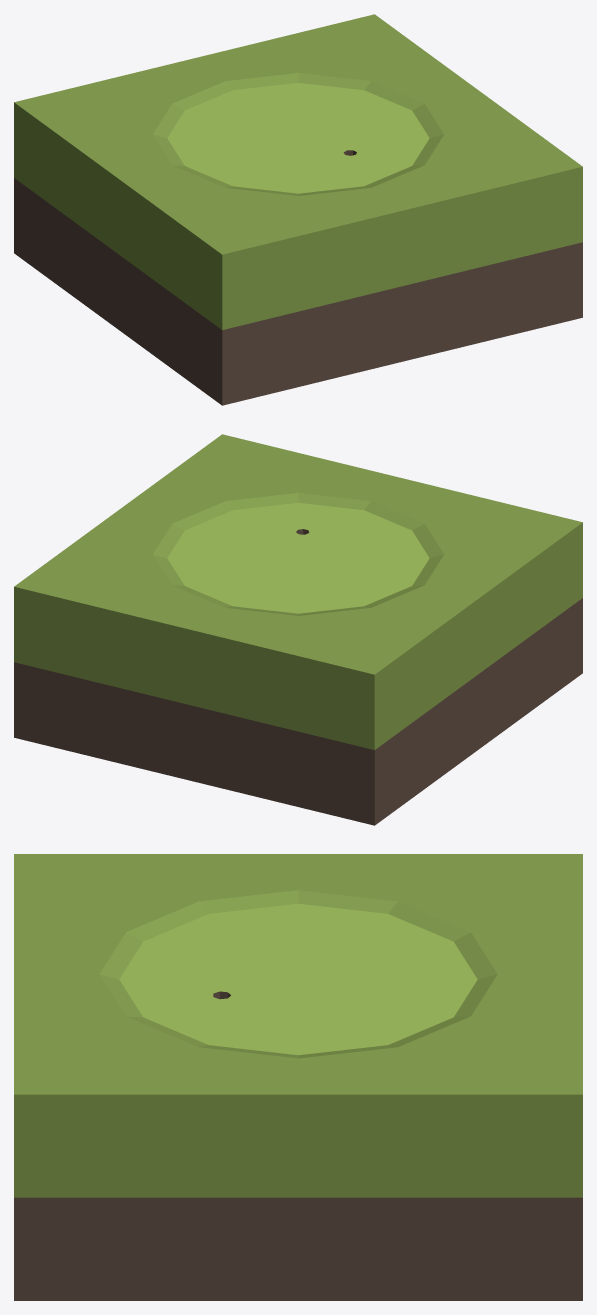
File: grass-tile-golfGreen_02_small.fbx
3 views of the same model, one above another, from view 1: azimuth 30°, elevation 25°; view 2: azimuth 150°, elevation 25°; view 3: azimuth 270°, elevation 25° (orthographic). The views are drawn at different scales.
Visible parts, largest first — view 1: grass-tile-golfGreen_02_small; view 2: grass-tile-golfGreen_02_small; view 3: grass-tile-golfGreen_02_small.
Boxes of the visible parts, box(x1,y1,x2,y2) form: grass-tile-golfGreen_02_small: box(14, 14, 582, 405); grass-tile-golfGreen_02_small: box(14, 434, 582, 825); grass-tile-golfGreen_02_small: box(14, 854, 582, 1300).
Bounding box in the file's own units: 1000 × 400 × 1000.
